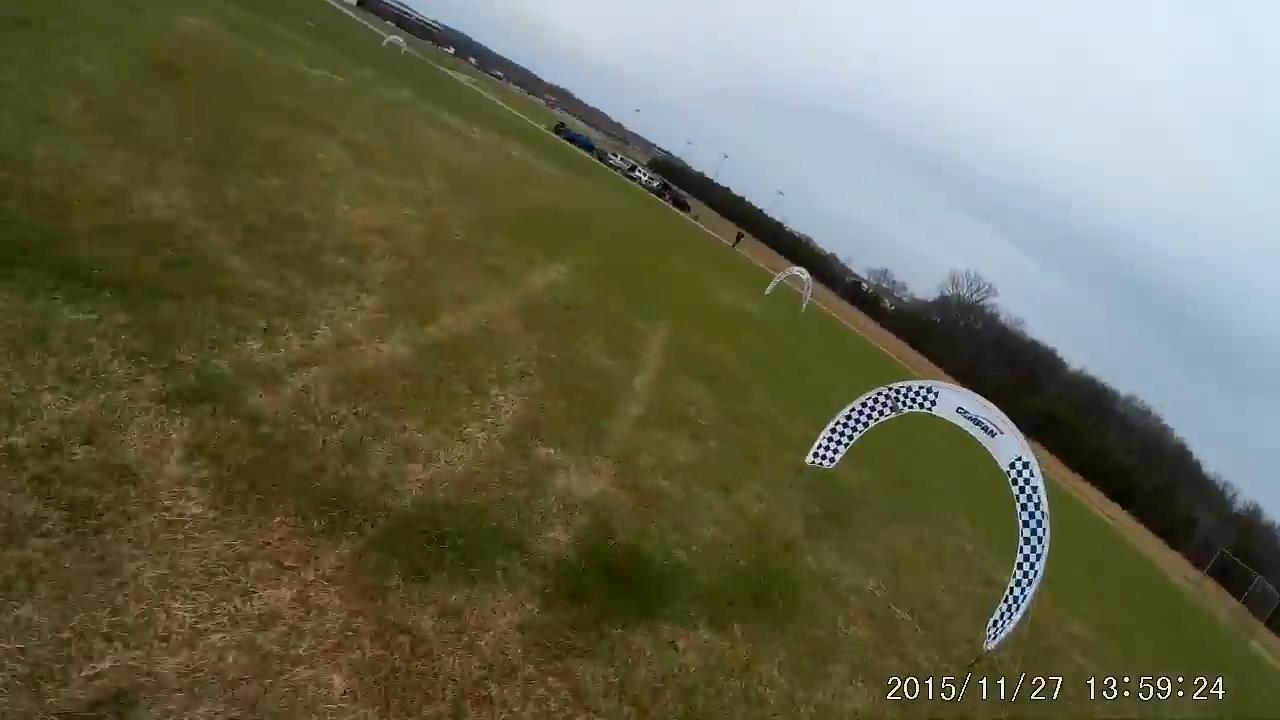gate: (801, 379, 1048, 657), (768, 264, 816, 312)
